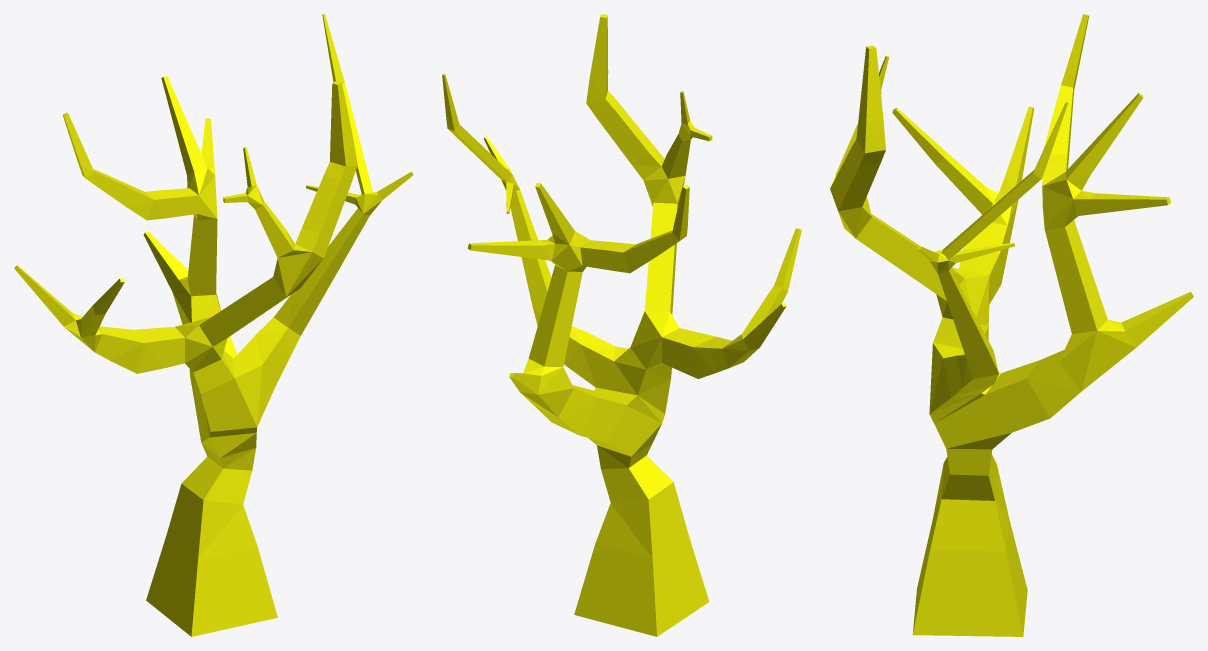
File: dead_tree.glb
3 renders of one model, left to right at view 1: azimuth 30°, elevation 25°; view 2: azimuth 150°, elevation 25°; view 3: azimuth 270°, elevation 25°, orthographic. The views are drawn at different scales.
Visible parts, largest first — view 1: dead_tree; view 2: dead_tree; view 3: dead_tree.
Boxes of the visible parts, box(x1,y1,x2,y2) form: dead_tree: box(14, 14, 413, 636); dead_tree: box(442, 14, 801, 636); dead_tree: box(830, 14, 1193, 636).
Bounding box in the file's own units: 6.96 × 10.24 × 5.53.
1 material, 1 textured.
